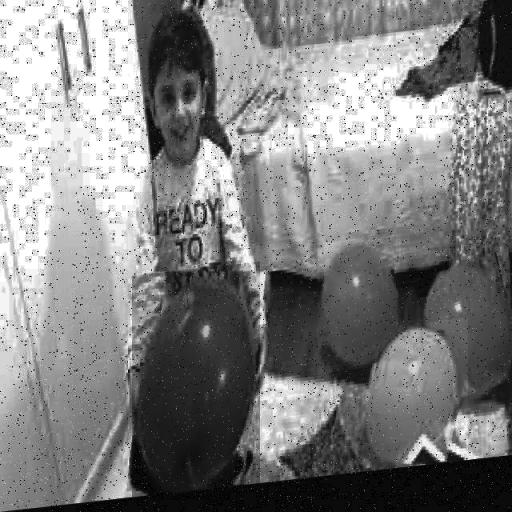balloon: (132, 268, 260, 500), (362, 328, 468, 480), (419, 266, 512, 412), (318, 243, 400, 380)
